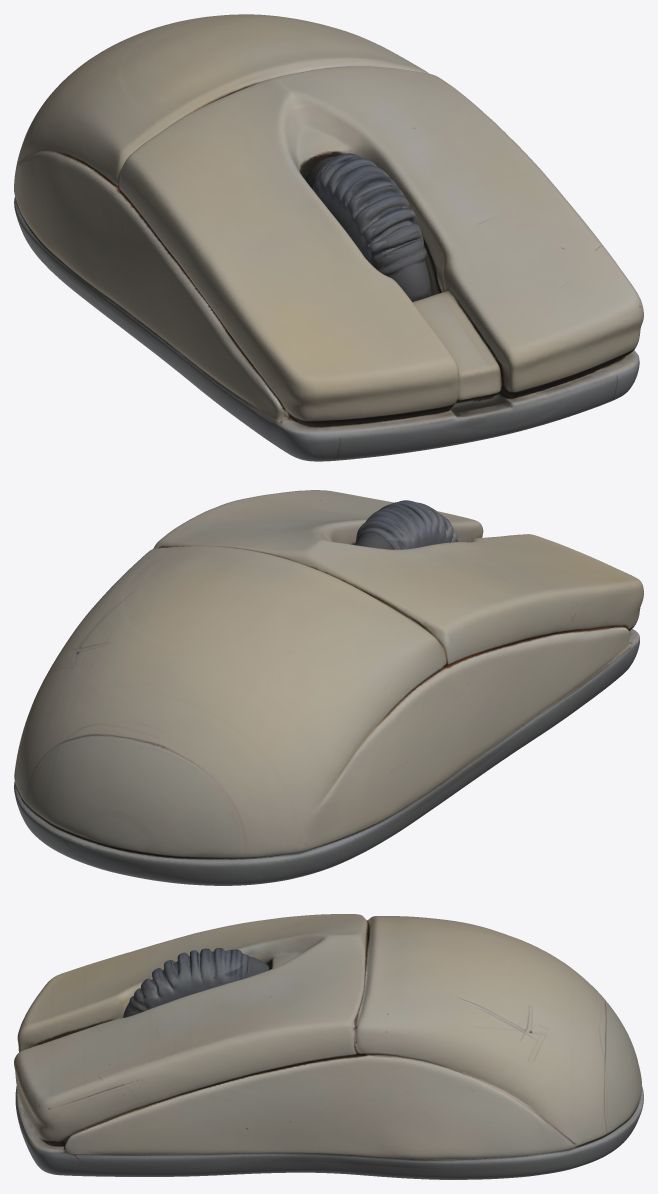
The model's file is Mouse.glb.
The picture shows the model from 3 angles, top to bottom: view 1: azimuth 30°, elevation 25°; view 2: azimuth 150°, elevation 25°; view 3: azimuth 270°, elevation 25°; orthographic projection. The views are drawn at different scales.
Visible parts, largest first — view 1: tripo_node_02385412-5599-4625-8be0-a210aac280d5; view 2: tripo_node_02385412-5599-4625-8be0-a210aac280d5; view 3: tripo_node_02385412-5599-4625-8be0-a210aac280d5.
Part boxes in pixels (x1=…): tripo_node_02385412-5599-4625-8be0-a210aac280d5: x1=14, y1=14, x2=643, y2=461; tripo_node_02385412-5599-4625-8be0-a210aac280d5: x1=14, y1=490, x2=643, y2=885; tripo_node_02385412-5599-4625-8be0-a210aac280d5: x1=14, y1=914, x2=643, y2=1179.
Size of the model in its own units: 0.5438 by 0.3161 by 1.
Materials: 1 (1 with a texture image).
